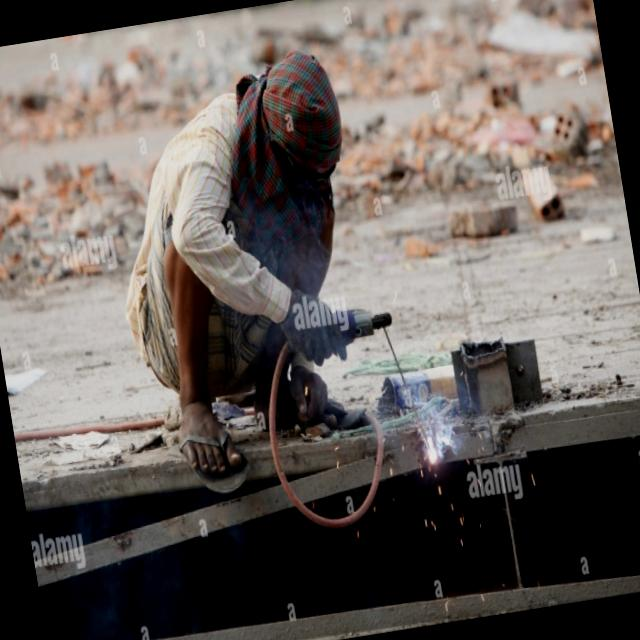gloves: (278, 267, 361, 367)
no-boots: (152, 349, 259, 514), (247, 329, 357, 458)
no-helmet: (215, 39, 358, 198)
person: (34, 12, 460, 558)
